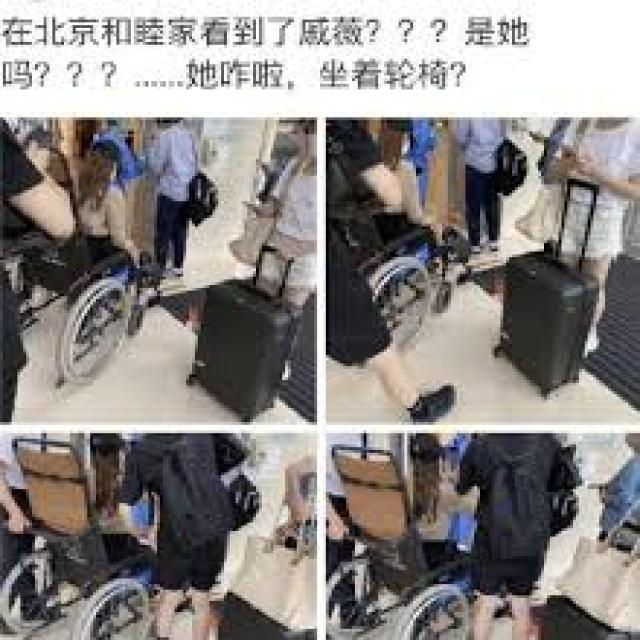wheelchairs: (3, 433, 160, 634), (3, 187, 160, 386), (326, 436, 477, 632), (332, 176, 483, 352)
